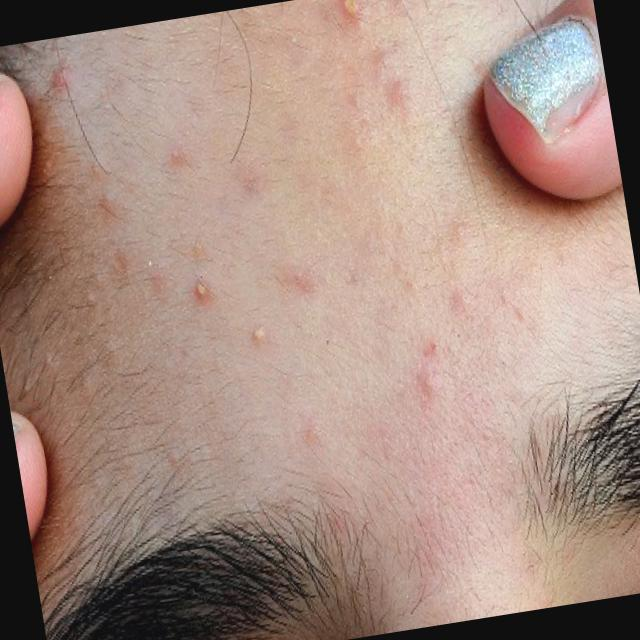fungal: (33, 0, 518, 507)
